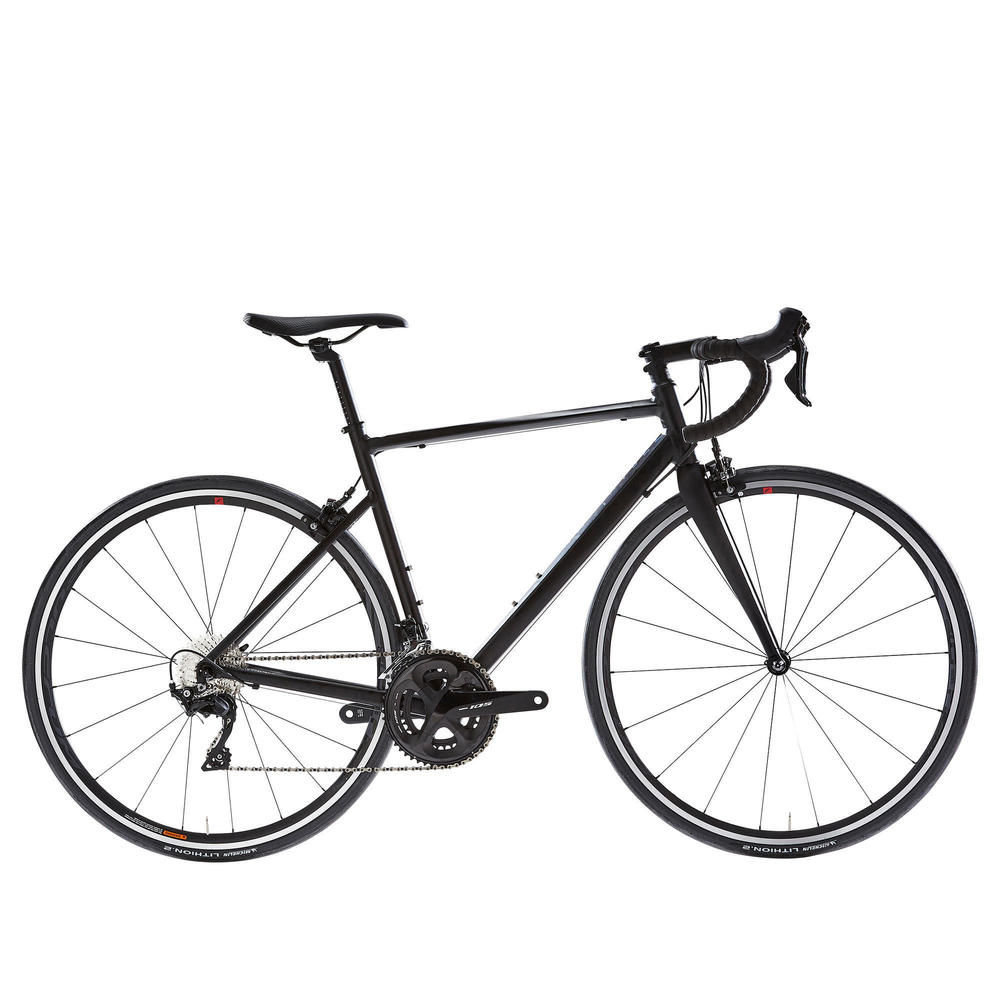RoadBike: (9, 313, 992, 871)
